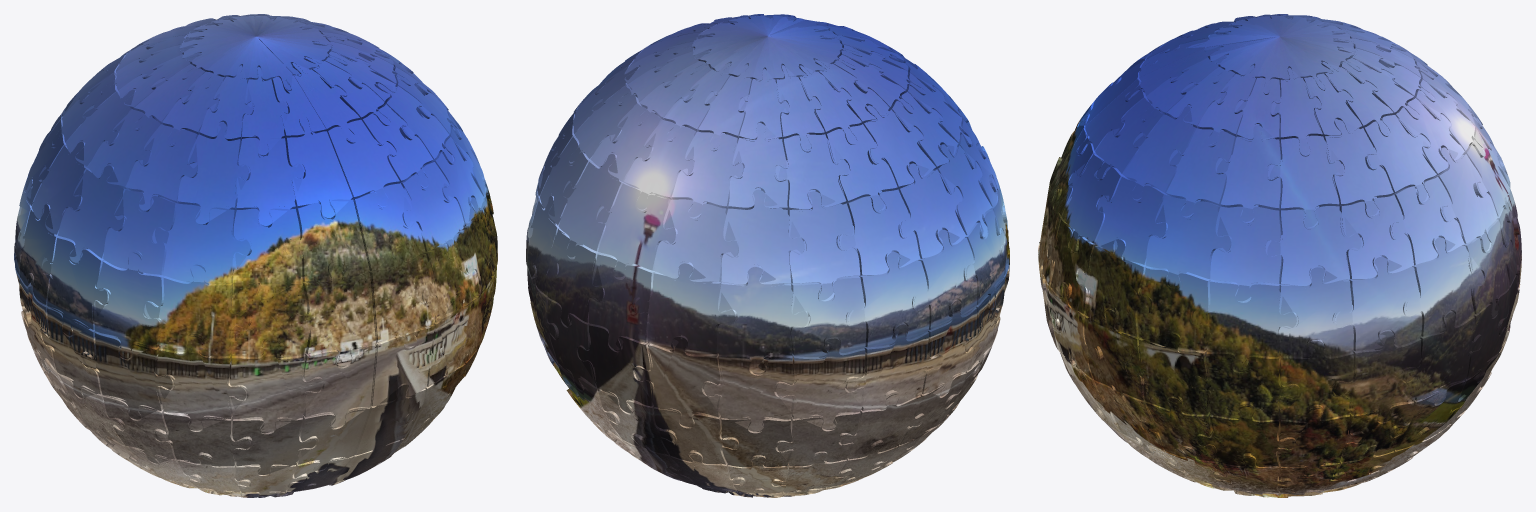
Rendered from hard-puzzle-prot3.fbx.
3 views of the same model, side by side, from view 1: azimuth 30°, elevation 25°; view 2: azimuth 150°, elevation 25°; view 3: azimuth 270°, elevation 25° (orthographic).
Visible parts, largest first — view 1: Street_View_360_1.041, Street_View_360_1.117, Street_View_360_1.027, Street_View_360_1.134, Street_View_360_1.099, Street_View_360_1.135, Street_View_360_1.116, Street_View_360_1.118, Street_View_360_1.098, Street_View_360_1.026, Street_View_360_1.115, Street_View_360_1.081 (+57 smaller); view 2: Street_View_360_1.041, Street_View_360_1.104, Street_View_360_1.105, Street_View_360_1.086, Street_View_360_1.085, Street_View_360_1.121, Street_View_360_1.103, Street_View_360_1.122, Street_View_360_1.102, Street_View_360_1.123, Street_View_360_1.087, Street_View_360_1.120 (+57 smaller); view 3: Street_View_360_1.041, Street_View_360_1.111, Street_View_360_1.110, Street_View_360_1.109, Street_View_360_1.092, Street_View_360_1.112, Street_View_360_1.129, Street_View_360_1.093, Street_View_360_1.094, Street_View_360_1.127, Street_View_360_1.128, Street_View_360_1.108 (+58 smaller).
Part boxes in pixels (x1,y1,x2,y2): Street_View_360_1.041: (179,14,345,90); Street_View_360_1.117: (144,264,249,356); Street_View_360_1.027: (291,263,375,366); Street_View_360_1.134: (229,340,321,432); Street_View_360_1.099: (152,203,251,283); Street_View_360_1.135: (156,336,247,430); Street_View_360_1.116: (230,282,308,357); Street_View_360_1.118: (93,252,164,358); Street_View_360_1.098: (232,208,302,298); Street_View_360_1.026: (285,199,369,282); Street_View_360_1.115: (369,248,436,348); Street_View_360_1.081: (103,189,177,275); Street_View_360_1.041: (675,15,860,81); Street_View_360_1.104: (716,265,808,373); Street_View_360_1.105: (634,262,737,354); Street_View_360_1.086: (721,189,804,284); Street_View_360_1.085: (788,191,860,301); Street_View_360_1.121: (775,336,865,429); Street_View_360_1.103: (790,276,866,356); Street_View_360_1.122: (704,354,794,431); Street_View_360_1.102: (848,251,929,347); Street_View_360_1.123: (635,336,720,426); Street_View_360_1.087: (654,199,738,281); Street_View_360_1.120: (845,322,941,410); Street_View_360_1.041: (1188,15,1359,91); Street_View_360_1.111: (1191,279,1297,371); Street_View_360_1.110: (1278,265,1353,356); Street_View_360_1.109: (1335,256,1422,351); Street_View_360_1.092: (1265,206,1361,286); Street_View_360_1.112: (1137,266,1210,351); Street_View_360_1.129: (1192,352,1298,420); Street_View_360_1.093: (1210,206,1282,302); Street_View_360_1.094: (1146,195,1232,289); Street_View_360_1.127: (1333,330,1421,421); Street_View_360_1.128: (1278,339,1354,421); Street_View_360_1.108: (1406,237,1483,336).
Size of the model in its own units: 2413 by 2414 by 2413.
